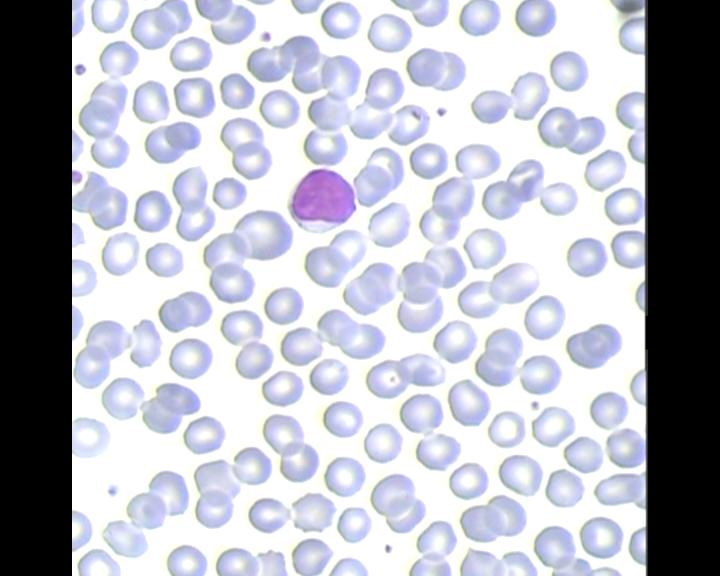lymp: (283, 168, 360, 238)
